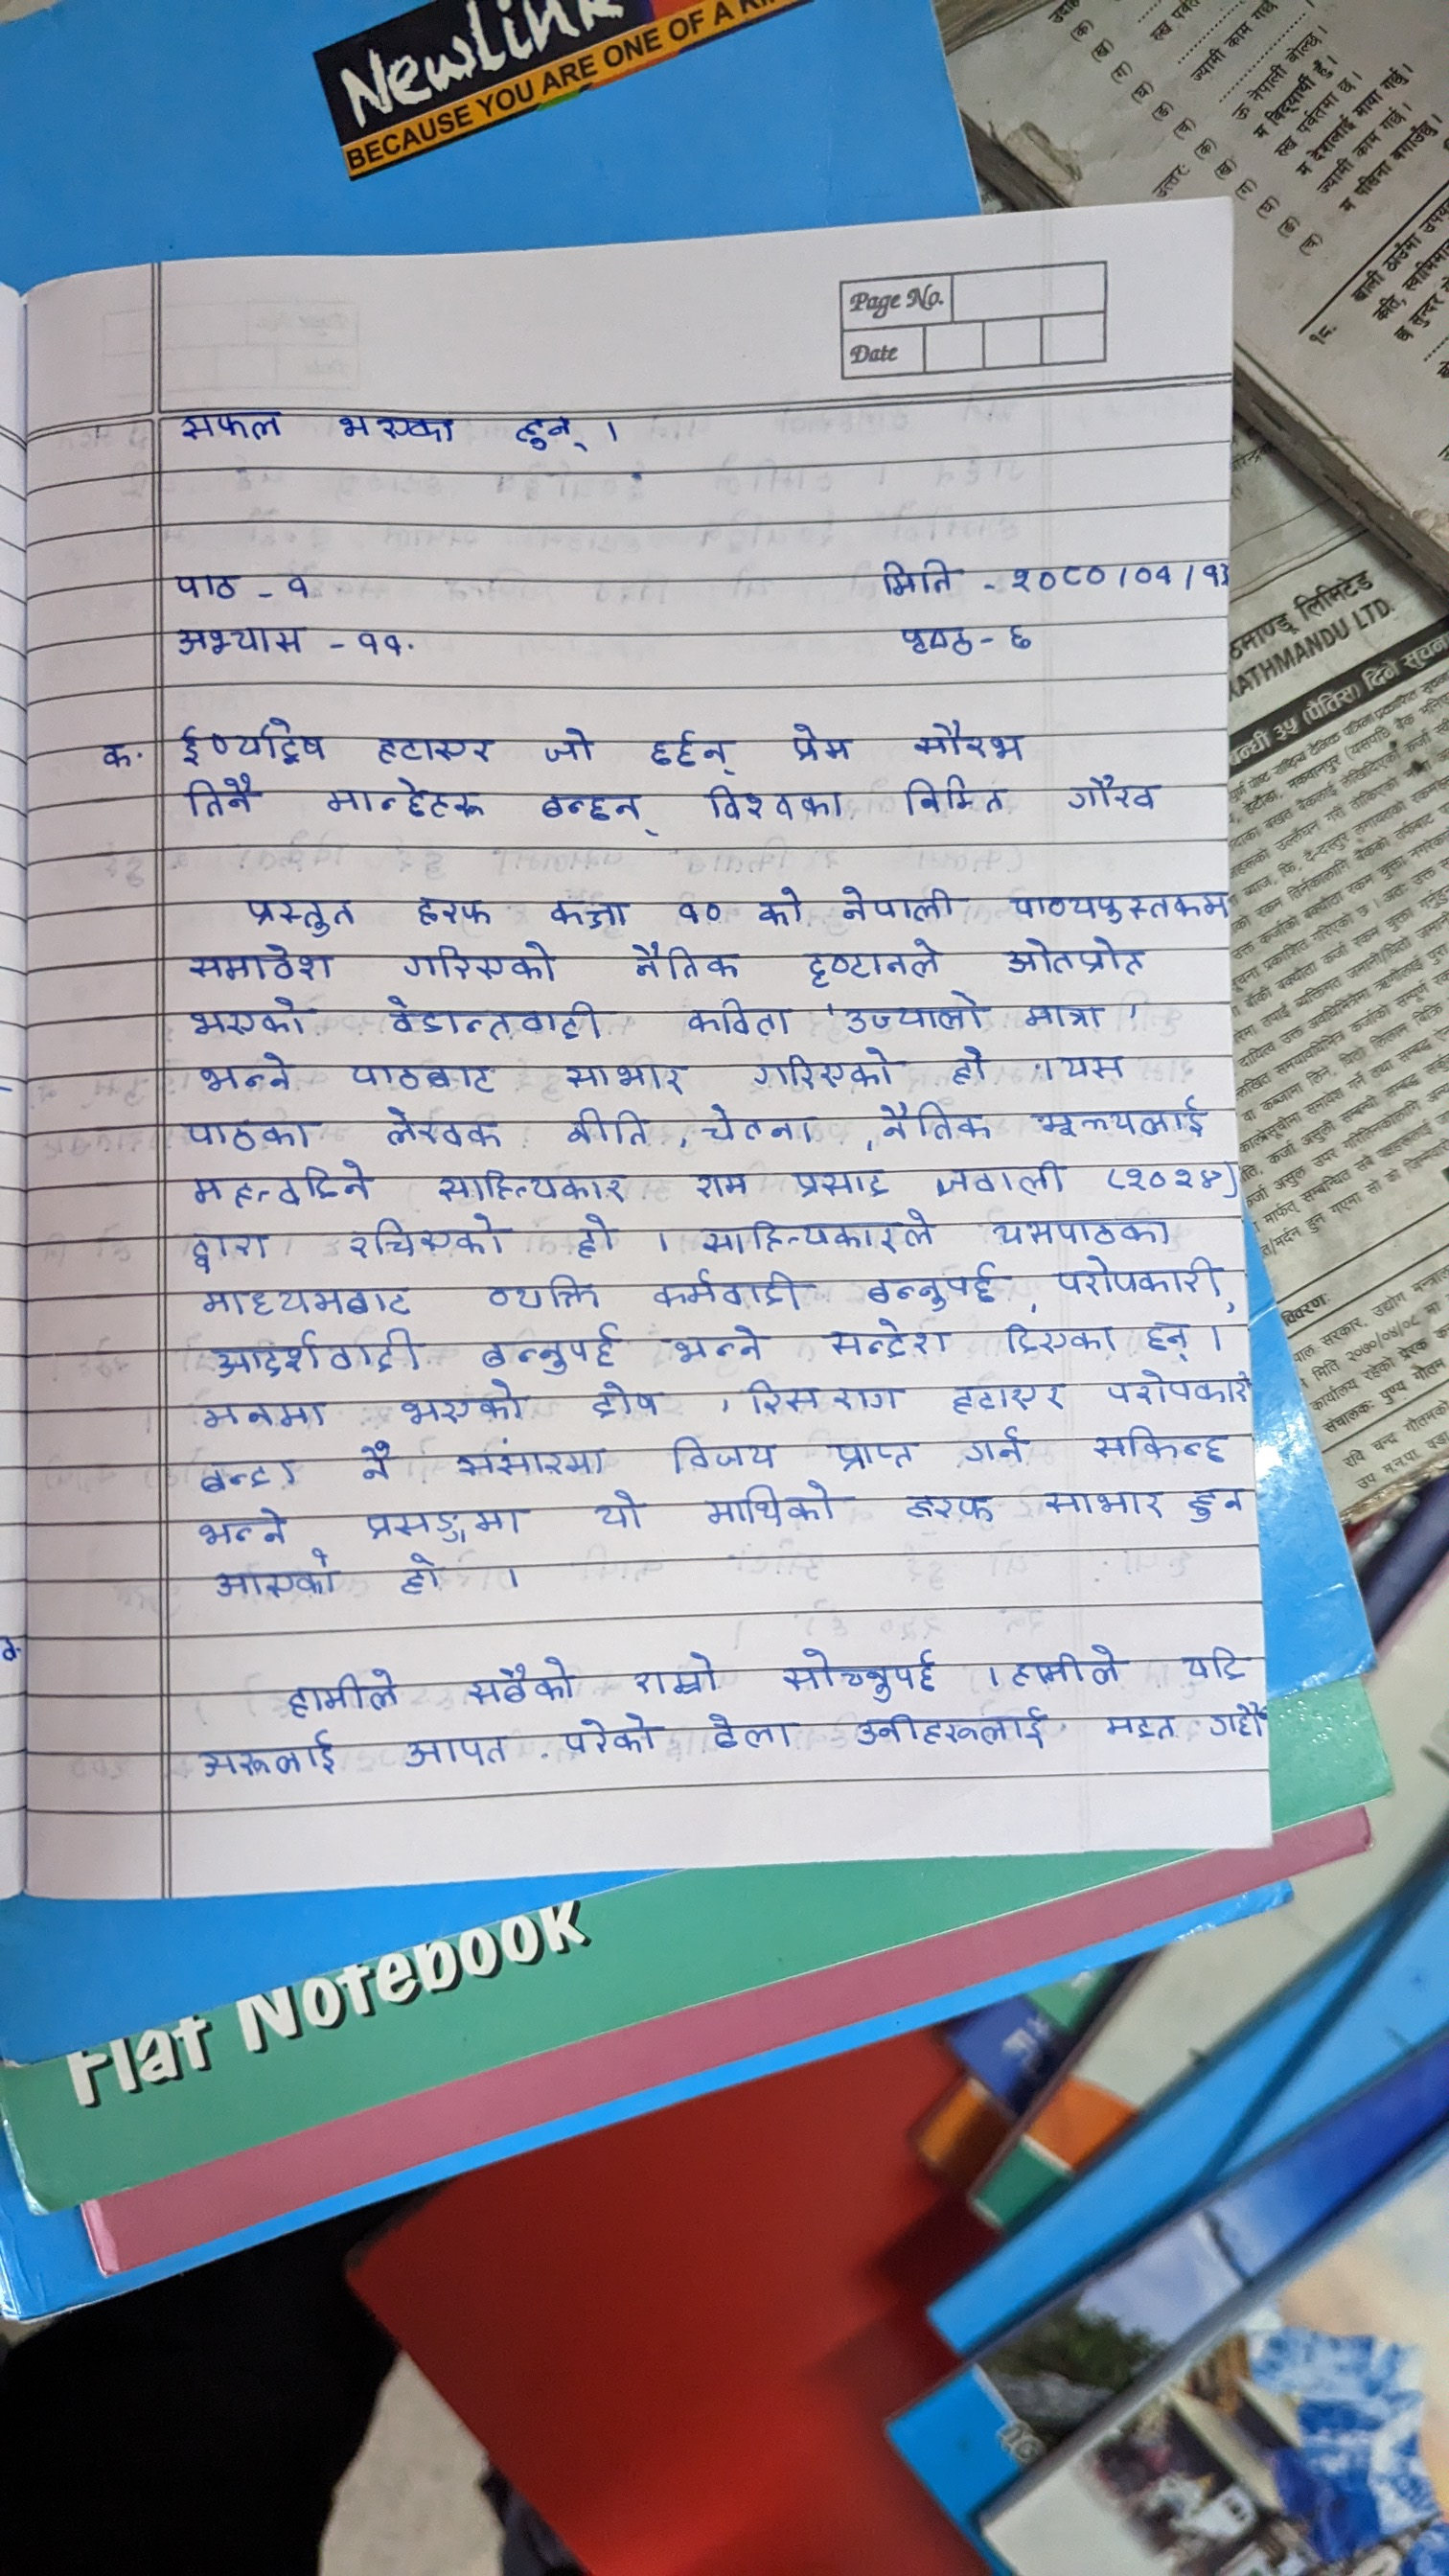text: (198, 1322, 428, 1378), (681, 1208, 939, 1258), (373, 991, 610, 1044), (849, 1704, 1058, 1755), (998, 879, 1231, 924), (182, 1161, 386, 1210), (773, 1644, 943, 1702), (182, 1725, 349, 1783), (317, 773, 487, 826), (196, 1279, 421, 1318), (469, 1322, 633, 1375), (209, 1548, 341, 1614), (1046, 1251, 1221, 1300), (331, 393, 469, 455), (419, 1166, 639, 1205), (168, 717, 327, 770), (338, 1214, 515, 1261), (701, 780, 853, 835), (393, 938, 566, 985), (361, 1499, 534, 1546), (741, 1042, 913, 1090), (998, 925, 1155, 977), (984, 1208, 1182, 1249), (163, 395, 295, 455), (272, 1663, 410, 1720), (862, 1260, 1014, 1311), (1023, 1095, 1214, 1136), (536, 784, 667, 842), (449, 1437, 617, 1481), (745, 1375, 911, 1419), (839, 985, 993, 1033), (998, 1637, 1127, 1693), (800, 934, 947, 984), (697, 1477, 847, 1525), (1083, 1421, 1231, 1468), (649, 1267, 803, 1313), (1051, 764, 1171, 823), (814, 1313, 955, 1362), (1102, 1366, 1251, 1412), (460, 1652, 584, 1707), (343, 1054, 502, 1097), (364, 724, 501, 773), (182, 941, 338, 984), (170, 614, 308, 662), (395, 1382, 534, 1428), (232, 886, 361, 936), (550, 1056, 701, 1099), (175, 1113, 326, 1154), (699, 1709, 810, 1764), (373, 1104, 511, 1148), (182, 994, 313, 1040), (941, 1373, 1076, 1417), (384, 1732, 513, 1778), (513, 391, 594, 464), (655, 1323, 786, 1368), (639, 722, 747, 775), (932, 1159, 1072, 1200), (193, 1391, 333, 1431), (839, 885, 971, 927), (695, 1102, 823, 1146), (1037, 1481, 1169, 1523), (626, 1644, 732, 1697), (909, 722, 1039, 764), (623, 936, 750, 978), (683, 993, 796, 1040), (663, 1433, 786, 1477), (869, 550, 970, 603), (472, 1270, 609, 1309), (899, 1483, 1008, 1530), (557, 1709, 662, 1759), (188, 1047, 295, 1095), (876, 1099, 1001, 1139), (996, 1318, 1123, 1357), (188, 1454, 304, 1497), (188, 1504, 299, 1548), (895, 775, 1010, 817), (182, 1226, 281, 1272), (177, 773, 265, 824), (1097, 1700, 1184, 1750), (554, 1108, 658, 1148), (159, 559, 255, 603), (1177, 1637, 1256, 1688), (893, 610, 975, 660), (1118, 1159, 1226, 1196), (402, 888, 499, 929), (1005, 559, 1111, 596), (1049, 1046, 1138, 1090), (543, 890, 633, 932), (823, 1431, 920, 1470), (789, 1164, 895, 1200), (952, 1422, 1035, 1465), (349, 614, 419, 663), (1017, 996, 1109, 1033), (587, 1376, 663, 1421), (533, 722, 605, 768), (750, 878, 809, 934), (1198, 1698, 1270, 1743), (87, 722, 140, 780), (1185, 1483, 1253, 1529), (1139, 1309, 1194, 1364), (589, 1486, 651, 1534), (791, 725, 865, 764), (566, 1212, 626, 1260), (686, 1164, 763, 1201), (352, 1431, 405, 1481), (943, 1044, 1001, 1088), (396, 1546, 446, 1596), (672, 890, 722, 929), (1129, 550, 1173, 593), (1005, 614, 1049, 656), (278, 563, 317, 607), (1198, 550, 1231, 594)
